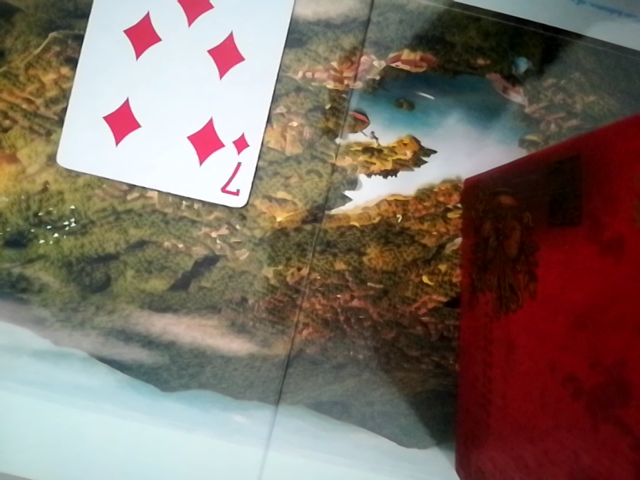fk 7: (51, 0, 289, 211)
